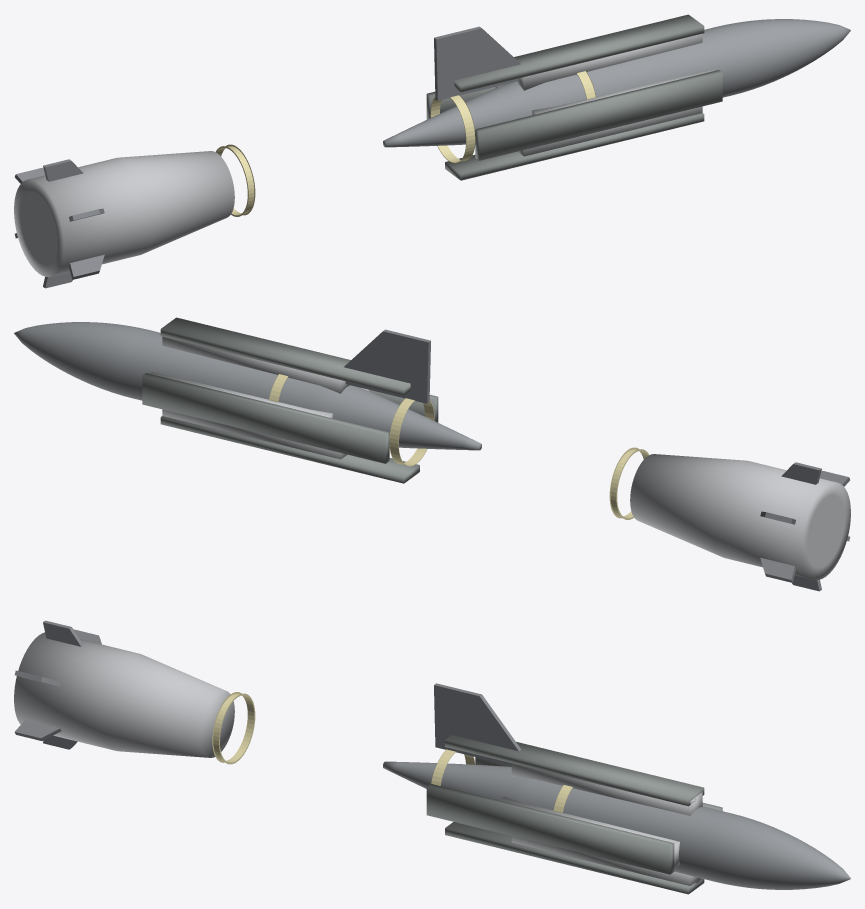
File: RU_ASM_P500_LOD0.fbx
3 views of the same model, one above another, from view 1: azimuth 30°, elevation 25°; view 2: azimuth 150°, elevation 25°; view 3: azimuth 330°, elevation 25° (orthographic).
Parts seen in each view (by area): view 1: WPN_RU_ASM_P500_LOD0_Tail, WPN_RU_ASM_P500_LOD0_Nose, WPN_RU_ASM_P500_LOD0_Body, WPN_RU_ASM_P500_LOD0_Detail, WPN_RU_ASM_P500_LOD0_Wings, WPN_RU_ASM_P500_LOD0_Marking, WPN_RU_ASM_P500_LOD0_Fins; view 2: WPN_RU_ASM_P500_LOD0_Tail, WPN_RU_ASM_P500_LOD0_Nose, WPN_RU_ASM_P500_LOD0_Body, WPN_RU_ASM_P500_LOD0_Detail, WPN_RU_ASM_P500_LOD0_Wings, WPN_RU_ASM_P500_LOD0_Marking, WPN_RU_ASM_P500_LOD0_Fins; view 3: WPN_RU_ASM_P500_LOD0_Tail, WPN_RU_ASM_P500_LOD0_Body, WPN_RU_ASM_P500_LOD0_Nose, WPN_RU_ASM_P500_LOD0_Detail, WPN_RU_ASM_P500_LOD0_Wings, WPN_RU_ASM_P500_LOD0_Fins, WPN_RU_ASM_P500_LOD0_Marking.
Part boxes in pixels (left/top/right/bottom): WPN_RU_ASM_P500_LOD0_Tail: left=14, top=151, right=234, bottom=277; WPN_RU_ASM_P500_LOD0_Nose: left=426, top=14, right=722, bottom=180; WPN_RU_ASM_P500_LOD0_Body: left=383, top=19, right=850, bottom=147; WPN_RU_ASM_P500_LOD0_Detail: left=495, top=33, right=714, bottom=156; WPN_RU_ASM_P500_LOD0_Wings: left=434, top=26, right=520, bottom=100; WPN_RU_ASM_P500_LOD0_Marking: left=216, top=71, right=595, bottom=216; WPN_RU_ASM_P500_LOD0_Fins: left=14, top=159, right=104, bottom=288; WPN_RU_ASM_P500_LOD0_Tail: left=630, top=454, right=850, bottom=580; WPN_RU_ASM_P500_LOD0_Nose: left=142, top=317, right=438, bottom=483; WPN_RU_ASM_P500_LOD0_Body: left=14, top=322, right=481, bottom=450; WPN_RU_ASM_P500_LOD0_Detail: left=150, top=336, right=369, bottom=459; WPN_RU_ASM_P500_LOD0_Wings: left=344, top=329, right=430, bottom=403; WPN_RU_ASM_P500_LOD0_Marking: left=269, top=374, right=648, bottom=519; WPN_RU_ASM_P500_LOD0_Fins: left=760, top=462, right=850, bottom=591; WPN_RU_ASM_P500_LOD0_Tail: left=14, top=632, right=234, bottom=757; WPN_RU_ASM_P500_LOD0_Body: left=383, top=761, right=850, bottom=889; WPN_RU_ASM_P500_LOD0_Nose: left=426, top=735, right=722, bottom=894; WPN_RU_ASM_P500_LOD0_Detail: left=499, top=763, right=702, bottom=887; WPN_RU_ASM_P500_LOD0_Wings: left=434, top=683, right=521, bottom=765; WPN_RU_ASM_P500_LOD0_Fins: left=14, top=620, right=101, bottom=749; WPN_RU_ASM_P500_LOD0_Marking: left=212, top=692, right=572, bottom=813.
Bounding box in the file's own units: 11.7 × 1.47 × 2.12.
